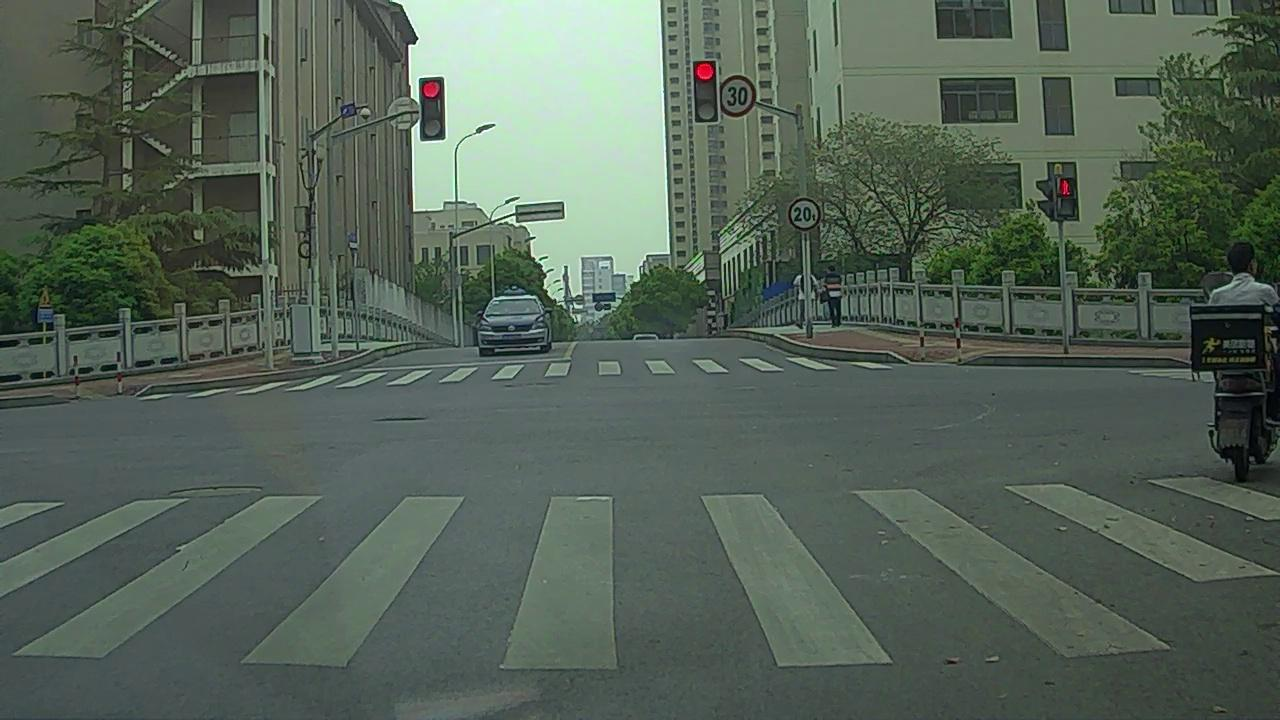traffic_light: (421, 77, 447, 140), (694, 60, 718, 124)
